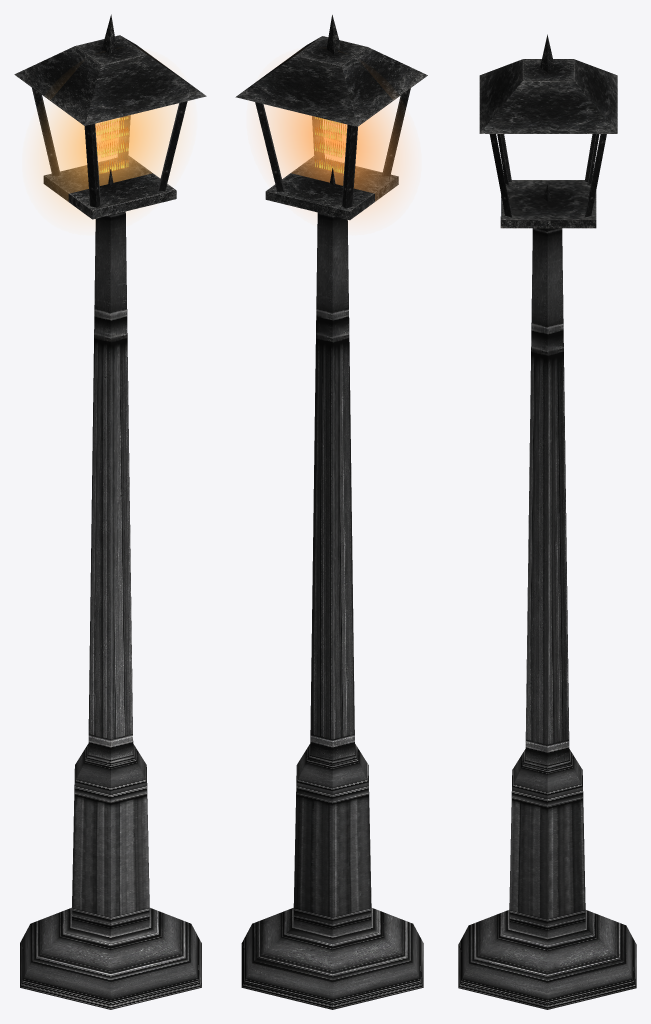
File: mm9_deco_lamppost1.glb
The picture shows the model from 3 angles, left to right: view 1: azimuth 30°, elevation 25°; view 2: azimuth 150°, elevation 25°; view 3: azimuth 270°, elevation 25°; orthographic projection. The views are drawn at different scales.
Parts seen in each view (by area): view 1: Lamppost1; view 2: Lamppost1; view 3: Lamppost1.
Boxes of the visible parts, bbox=[...] form: Lamppost1: bbox=[14, 14, 206, 1009]; Lamppost1: bbox=[235, 15, 427, 1009]; Lamppost1: bbox=[458, 34, 636, 1009].
Bounding box in the file's own units: 0.896 × 4.26 × 0.7389.
4 materials, 4 textured.
